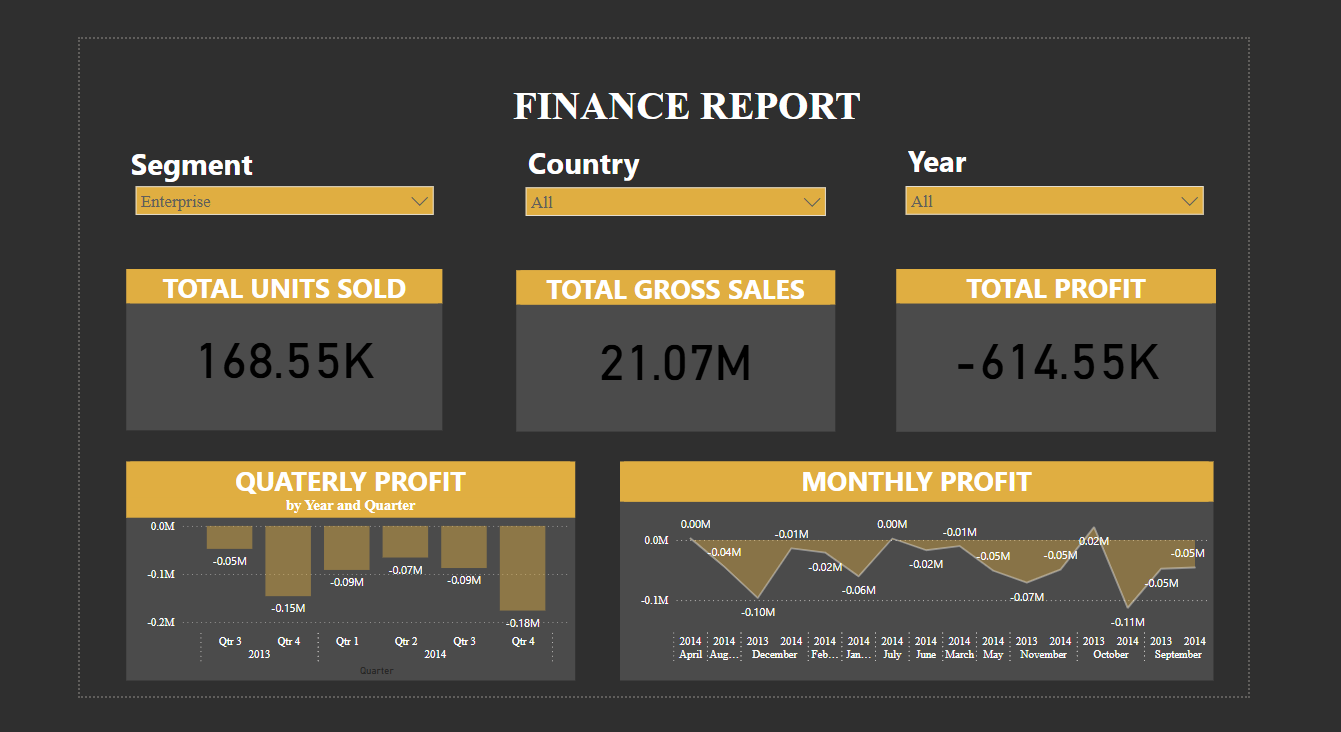

Layout of this report page (visuals, bound fields, positions):
{"tool":"powerbi","page":{"name":"Page 1","canvas":[1280,720],"ordinal":0},"visuals":[{"type":"textbox","box":[365,43.3,601.7,63.3],"z":3000},{"type":"slicer","fields":{"Values":["financials.Country"]},"box":[478.1,108.2,349.3,109.6],"z":4000},{"type":"slicer","title":"Segment","fields":{"Values":["financials.Segment"]},"box":[50.7,115.1,346.6,95.9],"z":5000},{"type":"slicer","fields":{"Values":["financials.Year"]},"box":[894.5,106.8,346.6,111],"z":6000},{"type":"card","title":"TOTAL UNITS SOLD","fields":{"Values":["Sum(financials.Units Sold)"]},"box":[50.7,252.1,346.6,176.7],"z":13000},{"type":"card","title":"TOTAL GROSS SALES","fields":{"Values":["Sum(financials.Gross Sales)"]},"box":[478.1,253.4,349.3,176.7],"z":14000},{"type":"card","title":"TOTAL PROFIT","fields":{"Values":["Sum(financials.Profit)"]},"box":[894.5,252.1,350.7,178.1],"z":16000},{"type":"clusteredColumnChart","title":"  QUATERLY PROFIT","fields":{"Y":["Sum(financials.Profit)"],"Category":["financials.Date.Variation.Date Hierarchy.Year","financials.Date.Variation.Date Hierarchy.Quarter"]},"box":[50,463.3,491.7,240],"z":17000},{"type":"areaChart","title":"MONTHLY PROFIT","fields":{"Y":["Sum(financials.Profit)"],"Category":["financials.Month Name","financials.Year"]},"box":[591.7,463.3,650,240],"z":18000}]}

Visuals, with their boxes on the page's 1280x720 design canvas (x1, y1, x2, y2). These are canvas units, not pixel positions in the 1341x732 screenshot, which may show the page scaled, cropped or inside an application window:
textbox: bbox=(365, 43, 967, 107)
slicer - financials.Country: bbox=(478, 108, 827, 218)
"Segment" slicer: bbox=(51, 115, 397, 211)
slicer - financials.Year: bbox=(894, 107, 1241, 218)
"TOTAL UNITS SOLD" card: bbox=(51, 252, 397, 429)
"TOTAL GROSS SALES" card: bbox=(478, 253, 827, 430)
"TOTAL PROFIT" card: bbox=(894, 252, 1245, 430)
"  QUATERLY PROFIT" clusteredColumnChart: bbox=(50, 463, 542, 703)
"MONTHLY PROFIT" areaChart: bbox=(592, 463, 1242, 703)
